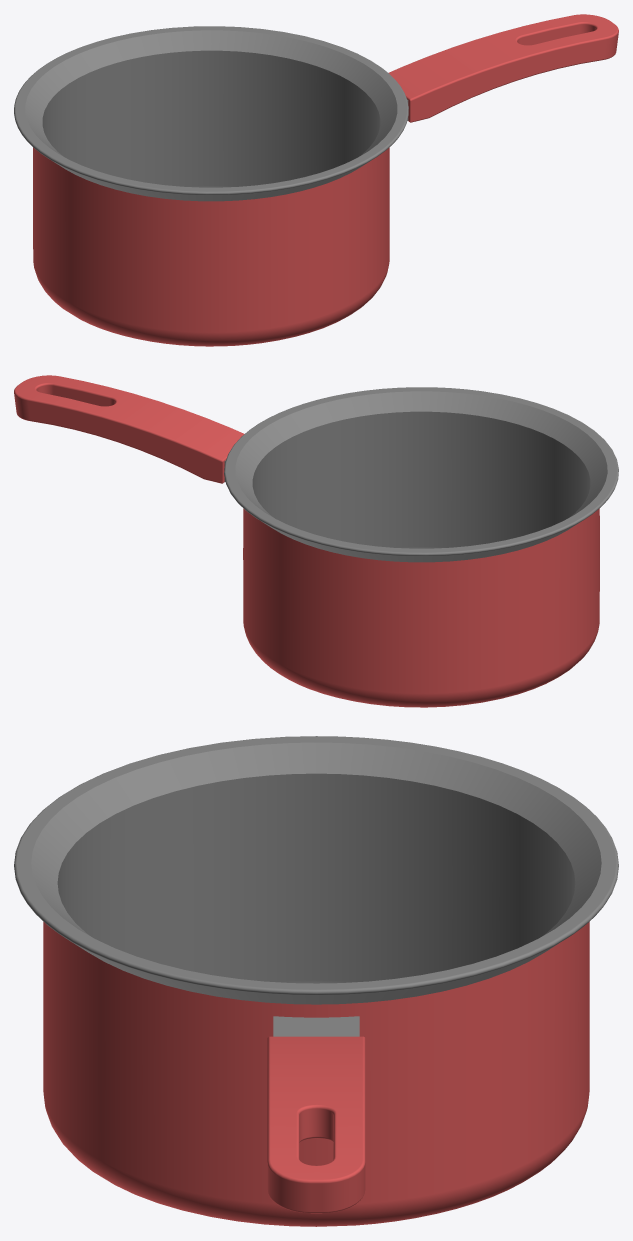
The model's file is 012_片手鍋蓋なし.glb.
3 views of the same model, one above another, from view 1: azimuth 30°, elevation 25°; view 2: azimuth 150°, elevation 25°; view 3: azimuth 270°, elevation 25° (orthographic). The views are drawn at different scales.
Parts seen in each view (by area): view 1: 鍋, 取手; view 2: 鍋, 取手; view 3: 鍋, 取手.
Boxes of the visible parts, <box> form: 鍋: <box>14,26,408,346</box>; 取手: <box>389,14,618,122</box>; 鍋: <box>224,387,618,707</box>; 取手: <box>14,375,244,483</box>; 鍋: <box>14,736,618,1226</box>; 取手: <box>267,1016,365,1213</box>.
Size of the model in its own units: 0.3523 by 0.1 by 0.2103.
